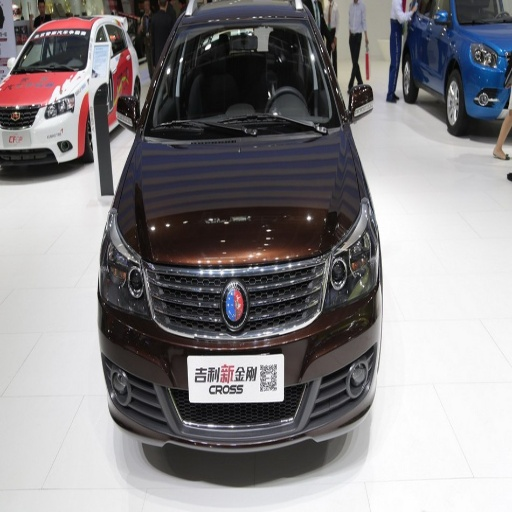front_bumper: (100, 263, 376, 450)
front_glass: (146, 24, 336, 139)
front_right_light: (102, 212, 144, 309)
hood: (119, 128, 361, 326)
